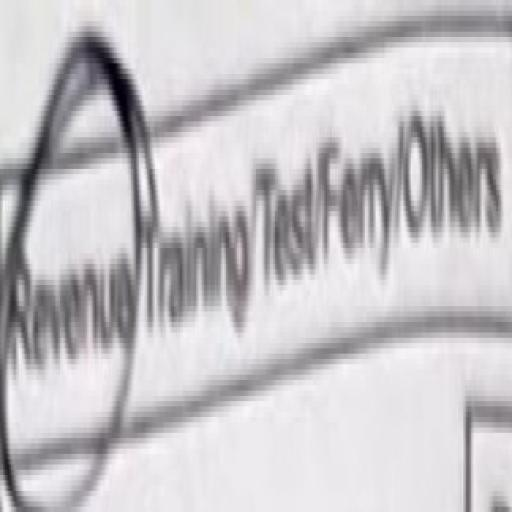check: (0, 26, 141, 512)
